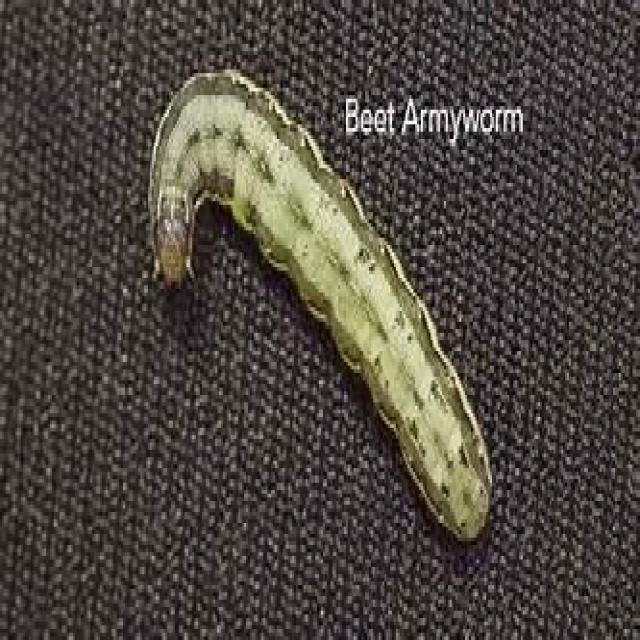BeetArmyWorm-Larva-: (142, 66, 499, 555)
